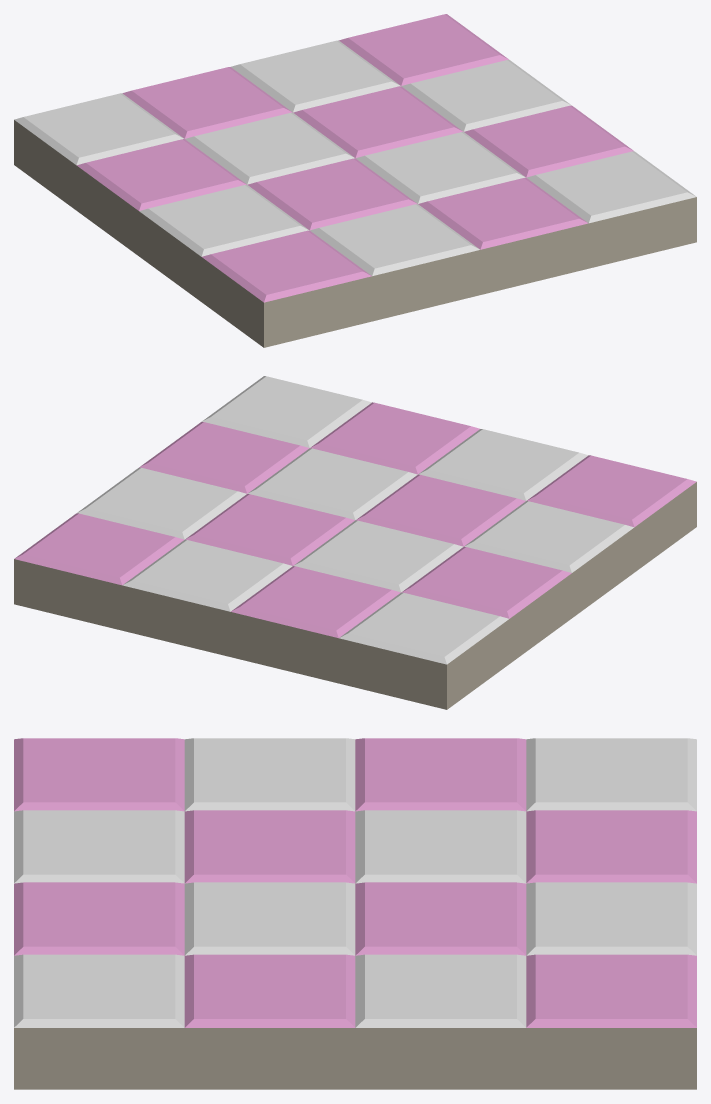
Rendered from Mesh_GroundCeramic_O2.fbx.
The picture shows the model from 3 angles, top to bottom: view 1: azimuth 30°, elevation 25°; view 2: azimuth 150°, elevation 25°; view 3: azimuth 270°, elevation 25°; orthographic projection. The views are drawn at different scales.
Parts seen in each view (by area): view 1: Mesh_GroundCeramic_O2; view 2: Mesh_GroundCeramic_O2; view 3: Mesh_GroundCeramic_O2.
Boxes of the visible parts, left/top/right/bottom form: Mesh_GroundCeramic_O2: left=14, top=14, right=696, bottom=347; Mesh_GroundCeramic_O2: left=14, top=376, right=696, bottom=709; Mesh_GroundCeramic_O2: left=14, top=738, right=696, bottom=1089.
Size of the model in its own units: 1 by 0.1082 by 1.
